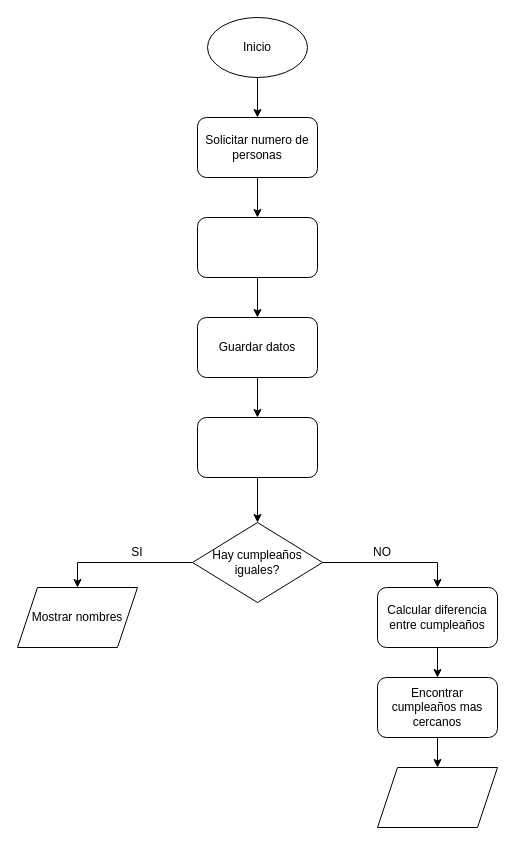
Image size: 515x845. Some labels were removed from this diagram. The shapes that lost their labels are listed below. From the top down, each one's centre as x and y in pixels, then its label:
the point at 257,247: Solicitar nombres, dias y meses de cumpleaños
the point at 257,447: Comparar cumpleaños
the point at 437,797: Mostar nombres
